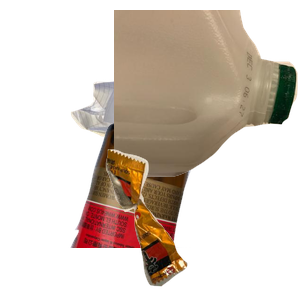glass: (68, 120, 255, 300)
paper: (68, 66, 215, 197)
plastic: (114, 10, 300, 179)
trash: (103, 147, 300, 300)
